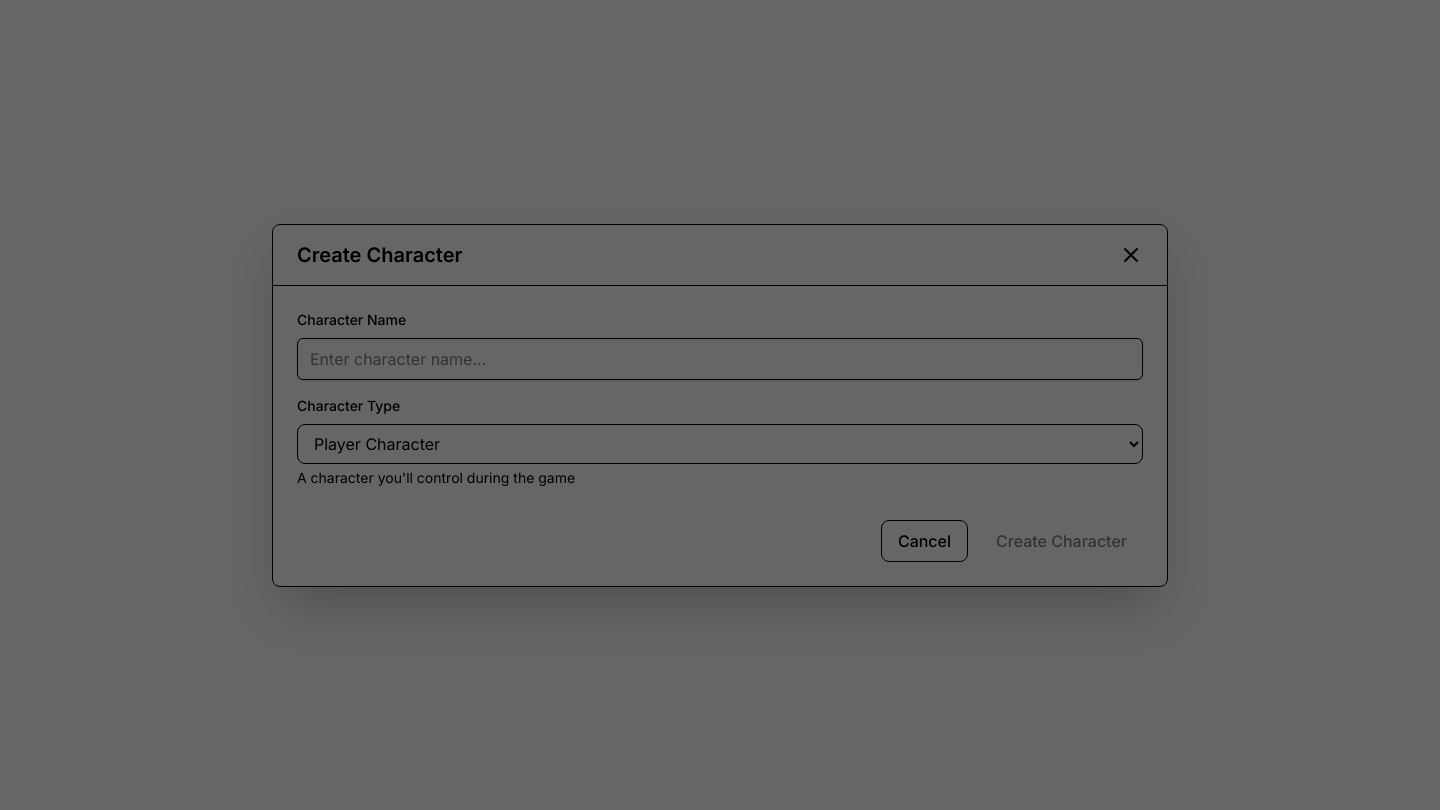
Test: CreateCharacterModal › Form Submission › shows error message on submission failure
This screenshot has width=1440, height=810.
In the field labelled "Character Name": (720, 358) [297, 338, 1143, 380], type "Test Character"
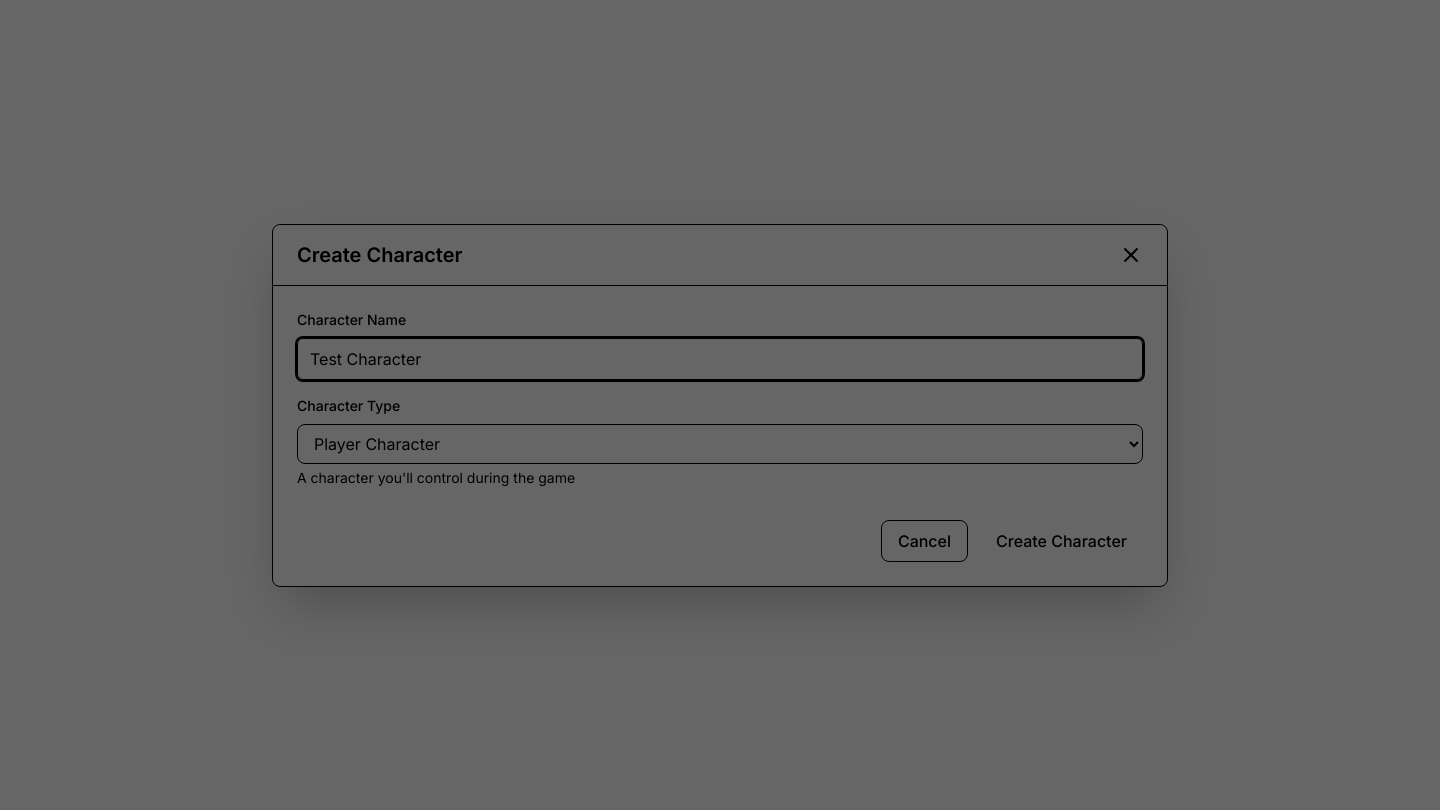
Click the button with test id "character-submit-button": (1062, 540) [980, 520, 1143, 562]
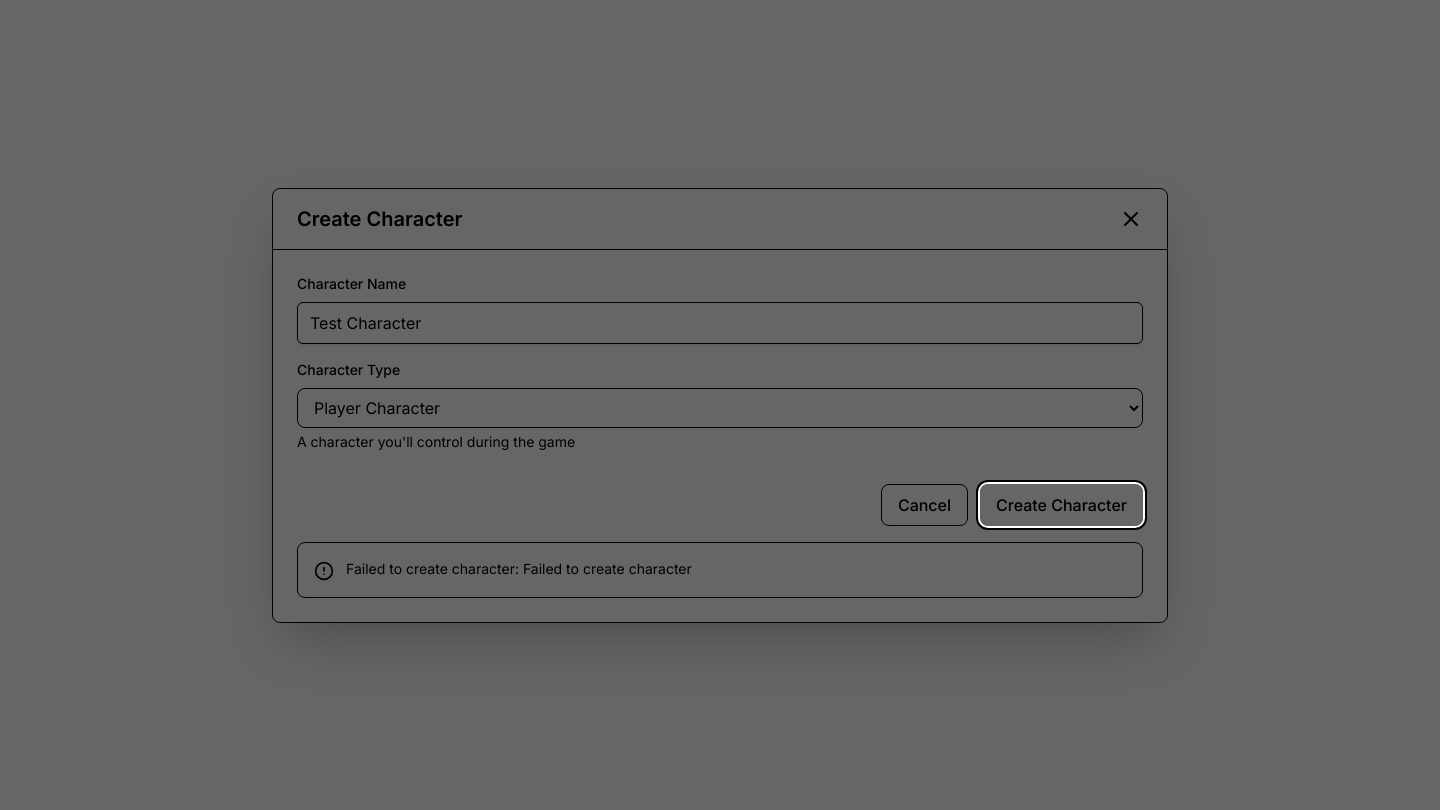
Check: the text "Failed to create character: Failed to create character" is shown, box [346, 560, 692, 576]
